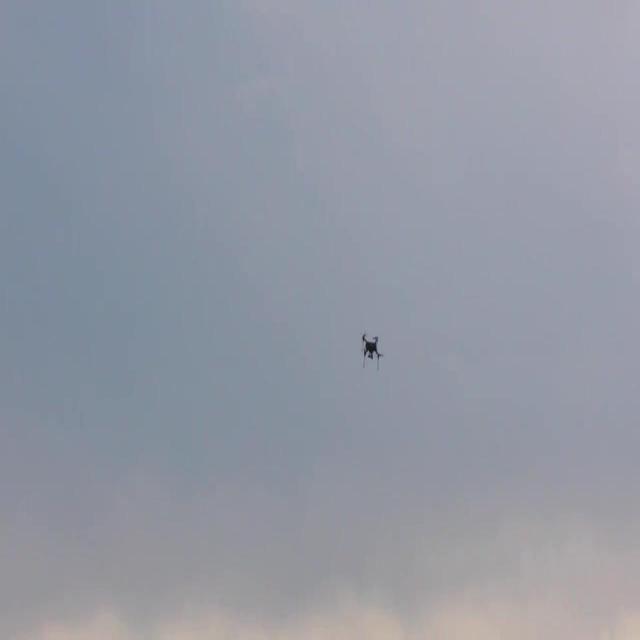drone: (358, 328, 384, 371)
